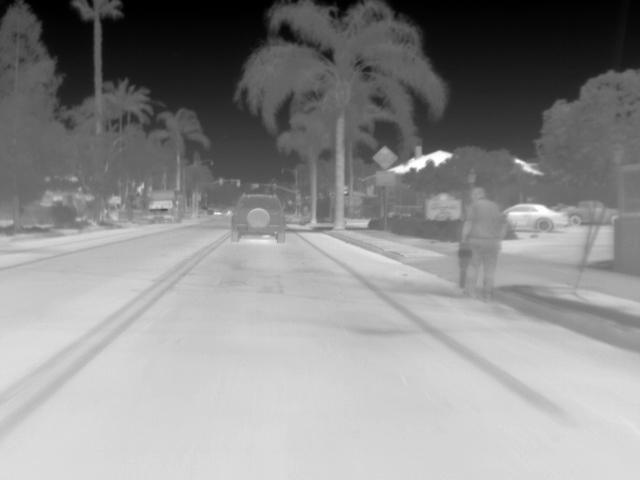car: (226, 190, 288, 241), (500, 202, 567, 232), (557, 198, 623, 226), (145, 191, 190, 224), (426, 195, 460, 222)
person: (458, 185, 509, 302)
